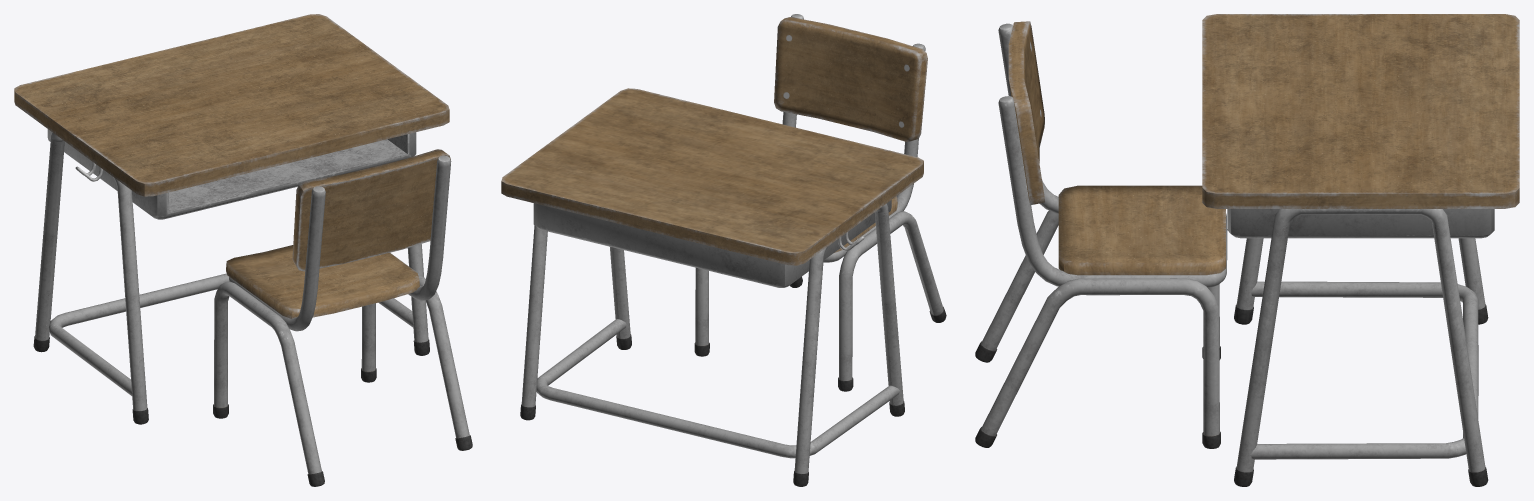
Rendered from student_desk__chair.glb.
3 views of the same model, side by side, from view 1: azimuth 30°, elevation 25°; view 2: azimuth 150°, elevation 25°; view 3: azimuth 270°, elevation 25° (orthographic). The views are drawn at different scales.
Visible parts, largest first — view 1: TopDeskTable_low, Back_low, ChairLegs_low, Seat_low, Base_low; view 2: TopDeskTable_low, Back_low, ChairLegs_low, Base_low; view 3: TopDeskTable_low, Seat_low, ChairLegs_low, Base_low, Back_low.
Boxes of the visible parts, x1=… form: TopDeskTable_low: x1=14, y1=14, x2=449, y2=424; Back_low: x1=292, y1=149, x2=450, y2=271; ChairLegs_low: x1=213, y1=253, x2=472, y2=486; Seat_low: x1=226, y1=245, x2=419, y2=318; Base_low: x1=229, y1=155, x2=451, y2=331; TopDeskTable_low: x1=501, y1=88, x2=923, y2=486; Back_low: x1=774, y1=17, x2=927, y2=141; ChairLegs_low: x1=694, y1=211, x2=946, y2=391; Base_low: x1=782, y1=14, x2=925, y2=262; TopDeskTable_low: x1=1202, y1=14, x2=1519, y2=486; Seat_low: x1=1058, y1=185, x2=1225, y2=275; ChairLegs_low: x1=975, y1=210, x2=1220, y2=448; Base_low: x1=998, y1=23, x2=1227, y2=287; Back_low: x1=1008, y1=21, x2=1044, y2=205.
Bounding box in the file's own units: 1.08 × 0.9659 × 1.39.
Materials: 1 (1 with a texture image).
